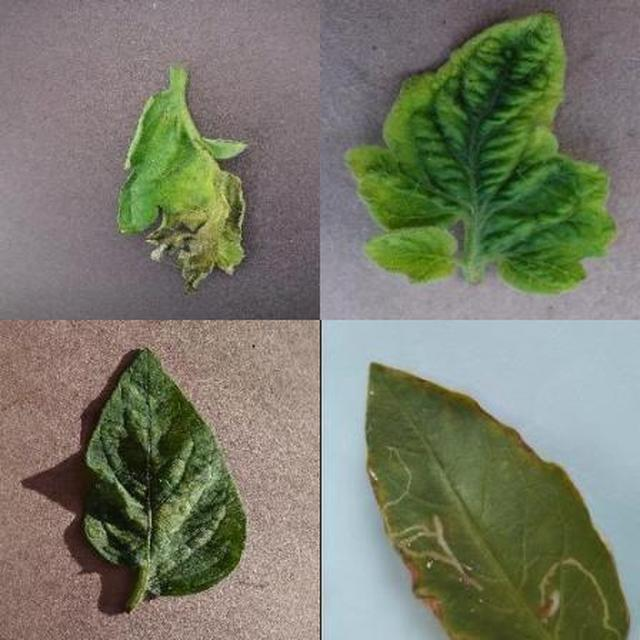Late Blight Leaf: (186, 218, 640, 640)
